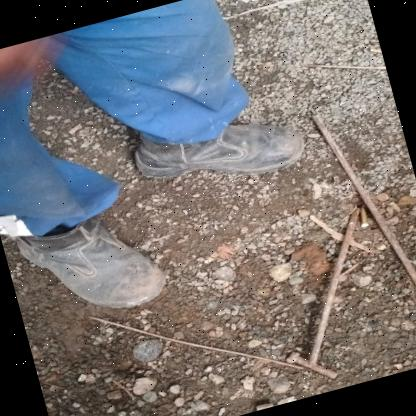bota: (5, 196, 172, 336), (125, 82, 310, 206)
